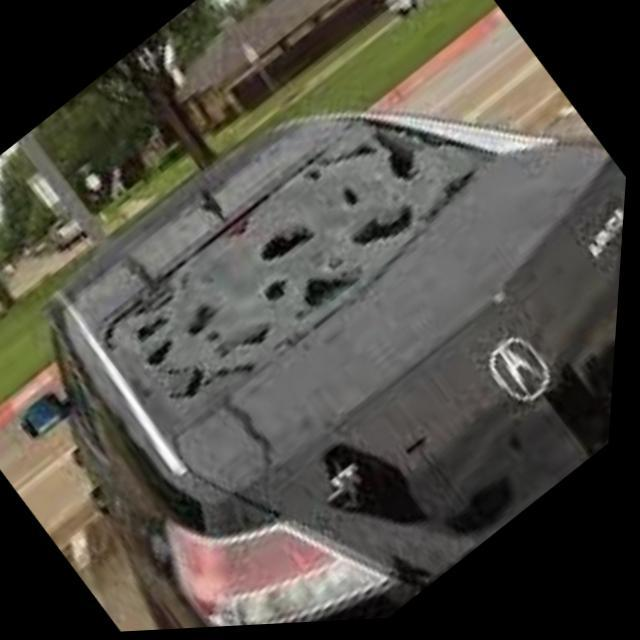glass shatter: (98, 117, 486, 447)
